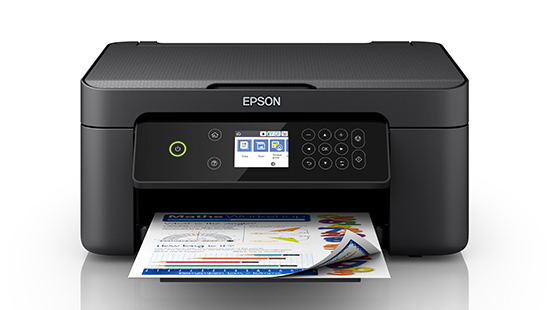printer: (75, 37, 471, 289)
